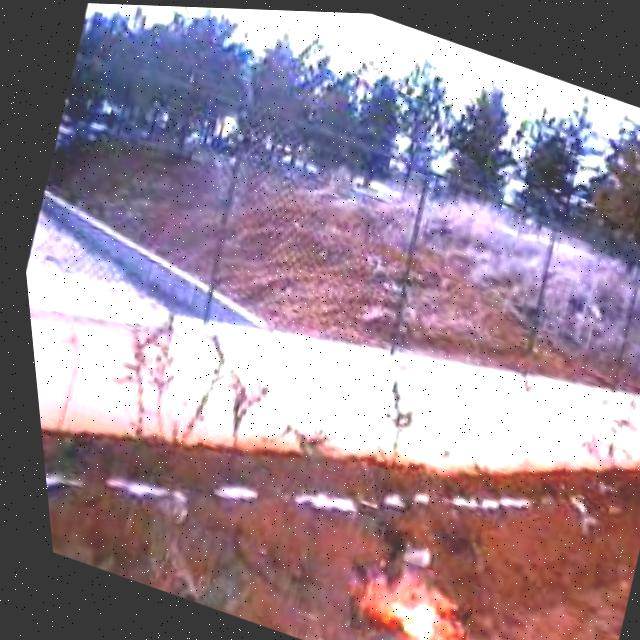Fire: (313, 531, 513, 640)
